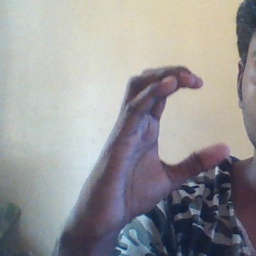C: (112, 59, 232, 181)
